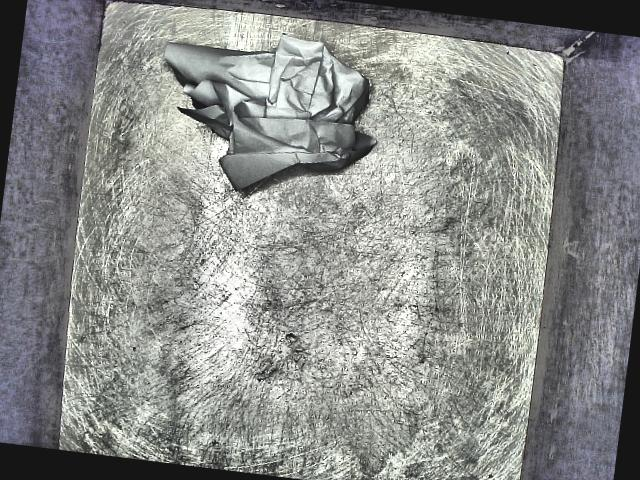Paper: (132, 2, 400, 226)
